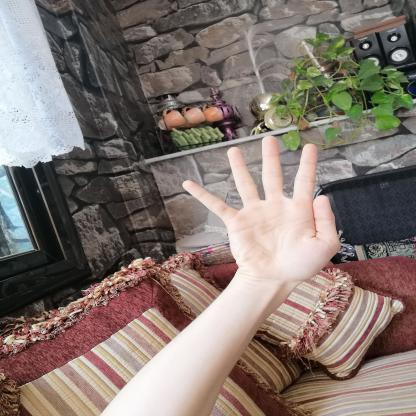SHEEN: (171, 128, 348, 287)
